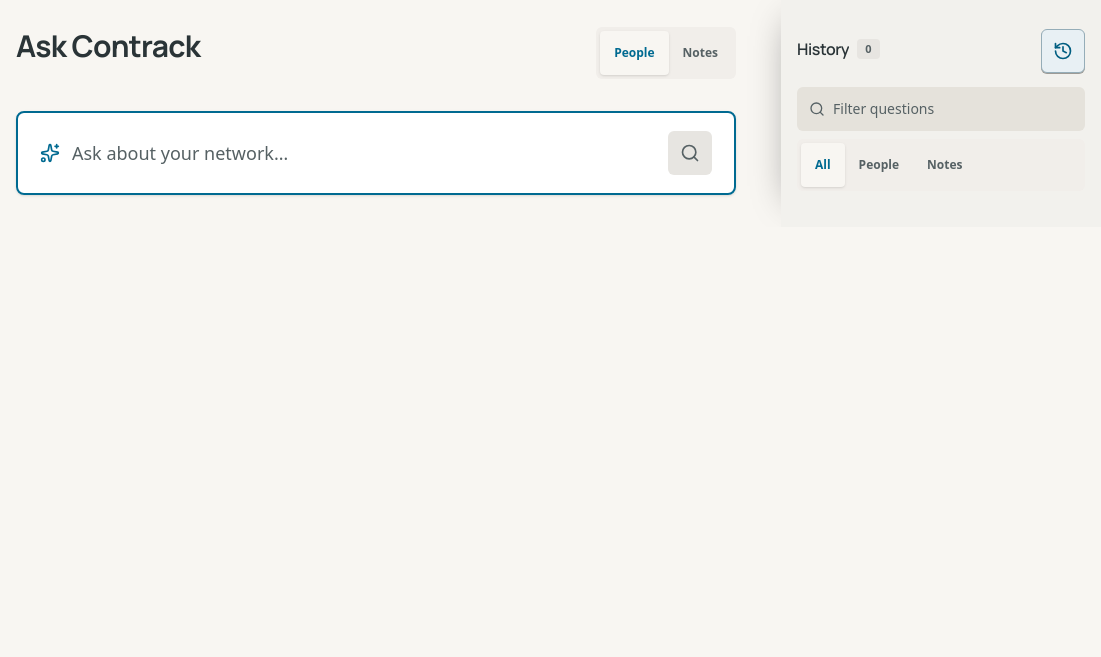
Test case: asking the same question again › offers Retry after a failed search, and Retry sends the question again
The image size is (1101, 657).
Type "Who likes espresso?" into the field labelled "Ask about your network".
click(342, 153); type("Who likes espresso?")  # box top-left (72, 133), bottom-right (612, 173)
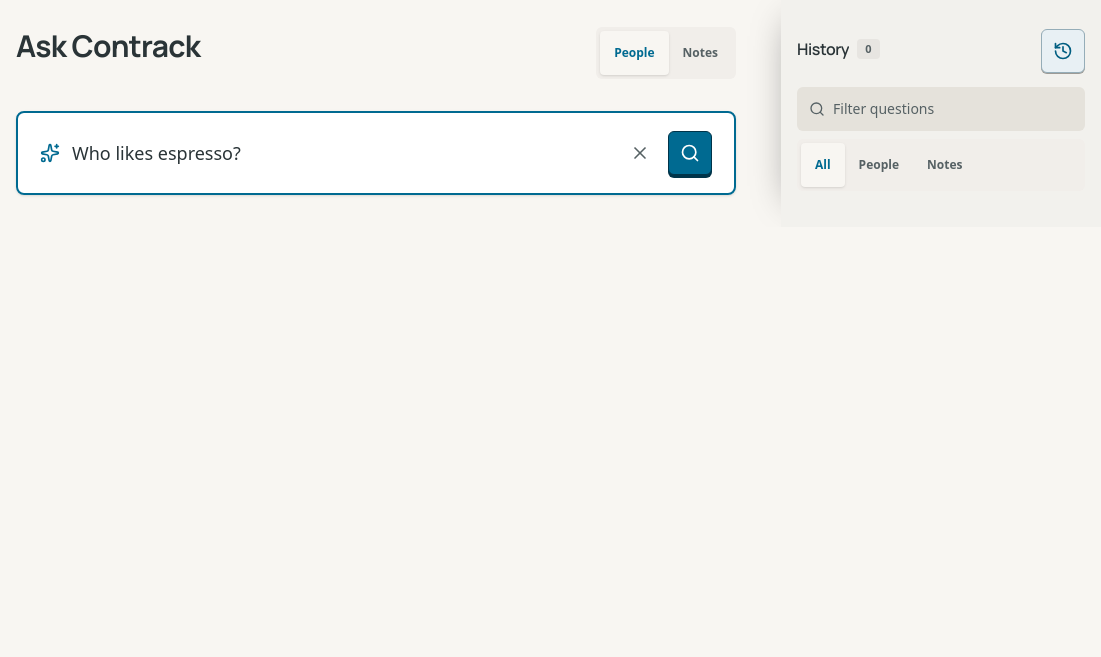
Press Enter in the field named "Ask about your network", box top-left (72, 133), bottom-right (612, 173)
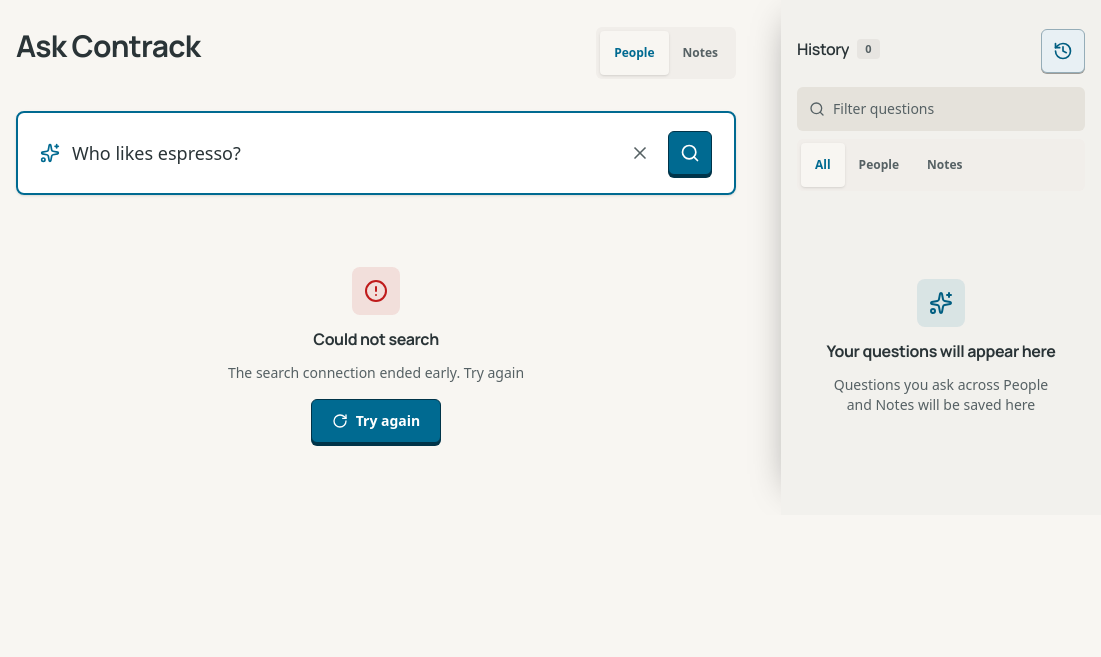
Expected: the text "Ada Lovelace" is not shown
Expected: the heading "Could not search" is shown, top-left (313, 327), bottom-right (439, 351)
Replace the text in the field named "Ask about your network" with "something else" at (342, 153), box top-left (72, 133), bottom-right (612, 173)
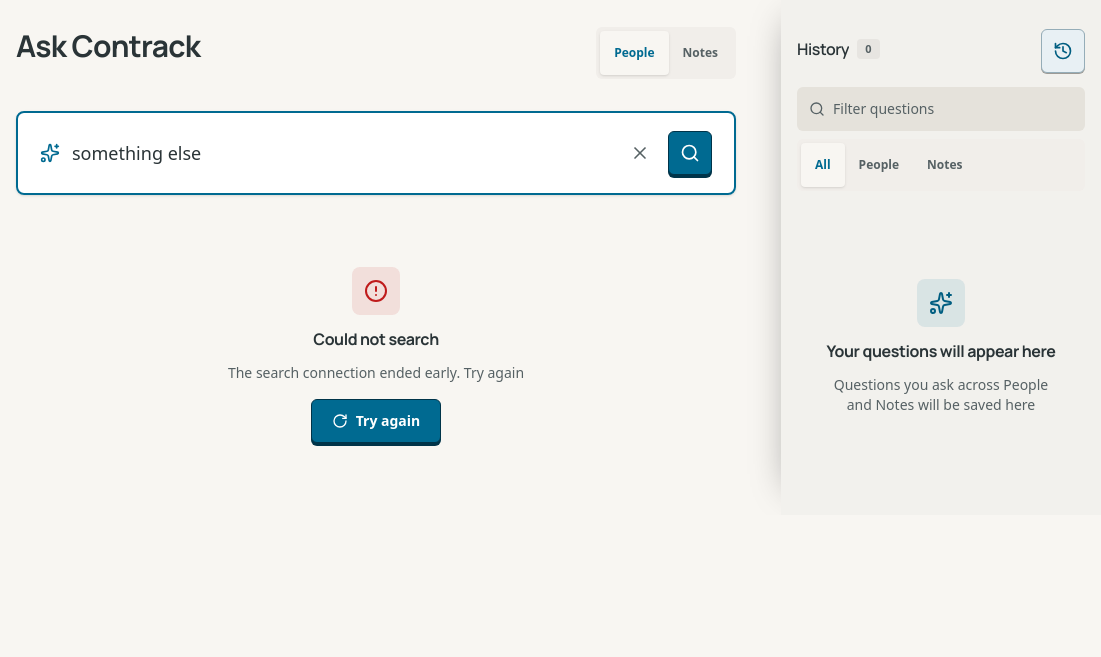
Click the button "Try again".
click(376, 421)  # box top-left (311, 399), bottom-right (441, 443)
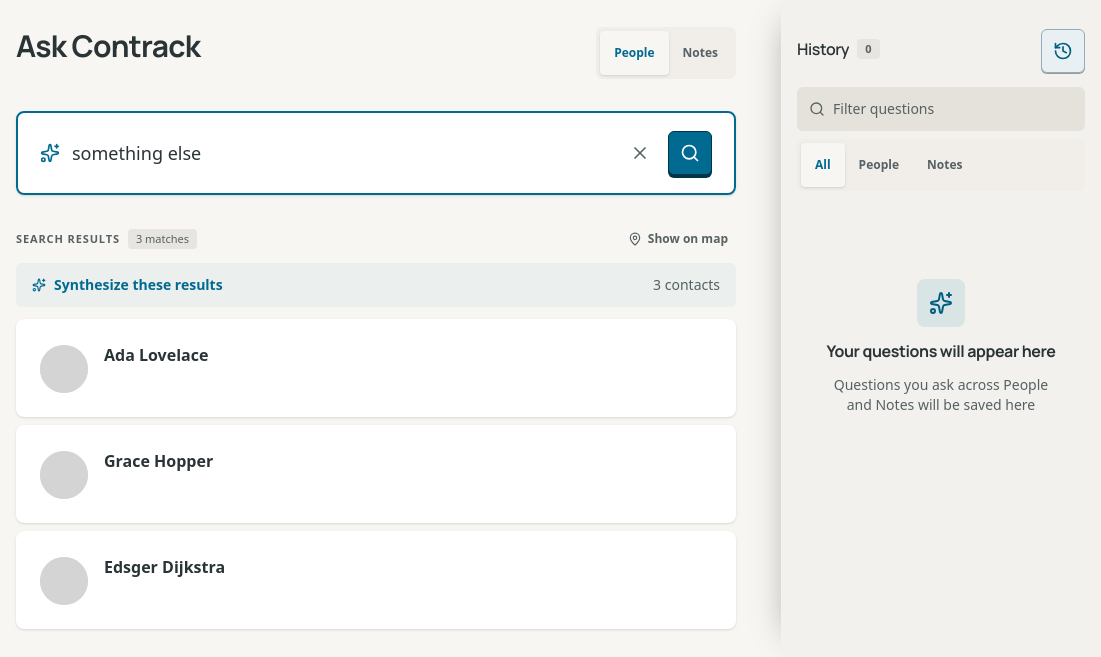
Expected: the text "Ada Lovelace" is shown, top-left (104, 343), bottom-right (208, 367)
